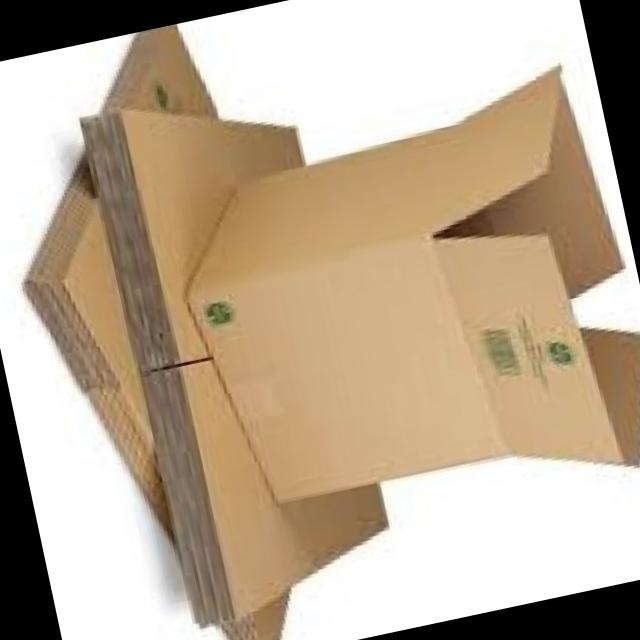cardboard paper: (31, 24, 640, 640), (191, 70, 640, 502)
